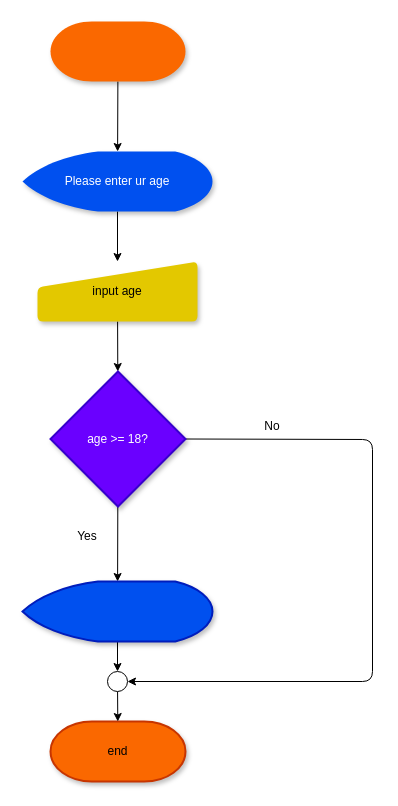
Some shapes in this 398 by 806 pixel diagram are drawn without their labels. Here are the shapes that lost their labels. From the top down, the centre of each, then its label:
At [118,52]: "start".
At [118,612]: "You are an adult".
